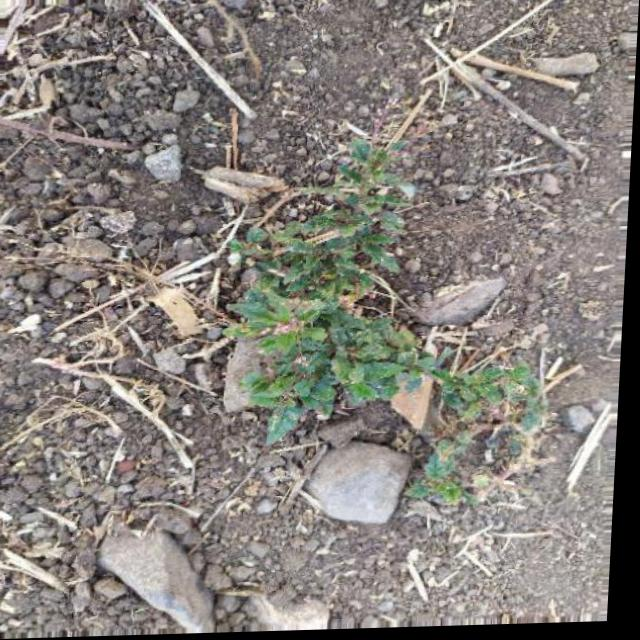weed: (197, 136, 556, 484)
